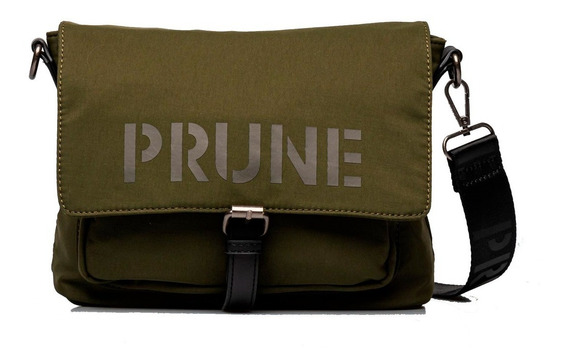cartera: (27, 19, 517, 316)
